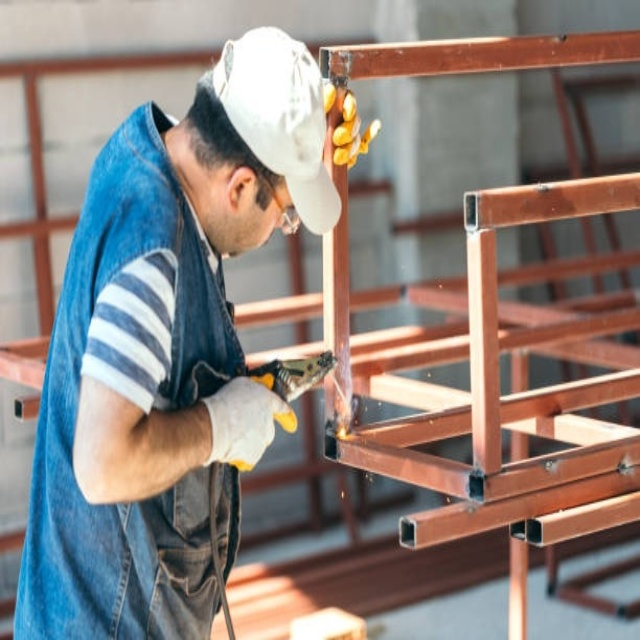Gafas: (260, 163, 297, 236)
Guantes: (198, 374, 292, 472), (327, 87, 381, 171)
